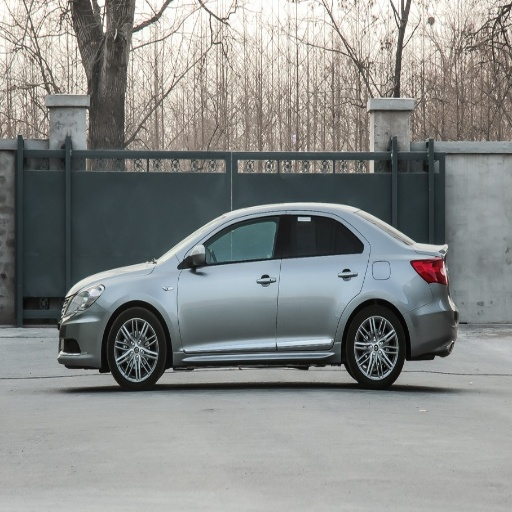back_left_door: (277, 211, 369, 348)
front_left_door: (178, 212, 284, 349)
